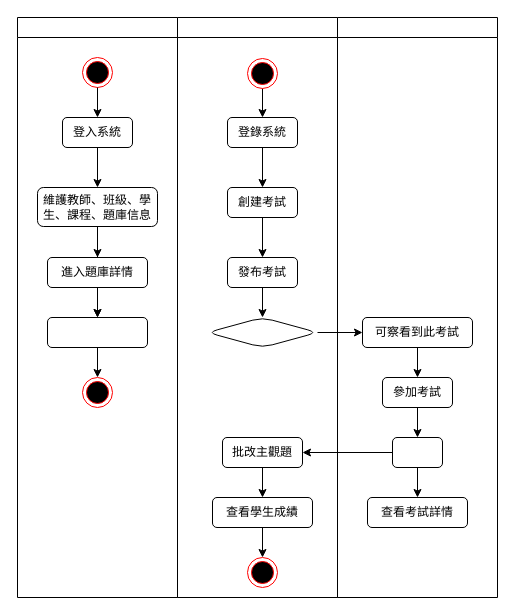
This 515x615 diagram has some shape labels left out. The box of each missing label's shape, as (x1, y1, x2, y2) in pixels:
交卷: (392, 436, 442, 468)
學生: (336, 16, 498, 598)
教師: (176, 16, 338, 598)
是否到考試時間: (206, 316, 318, 348)
管理員: (16, 16, 178, 598)
維護題目信息: (46, 316, 148, 348)
